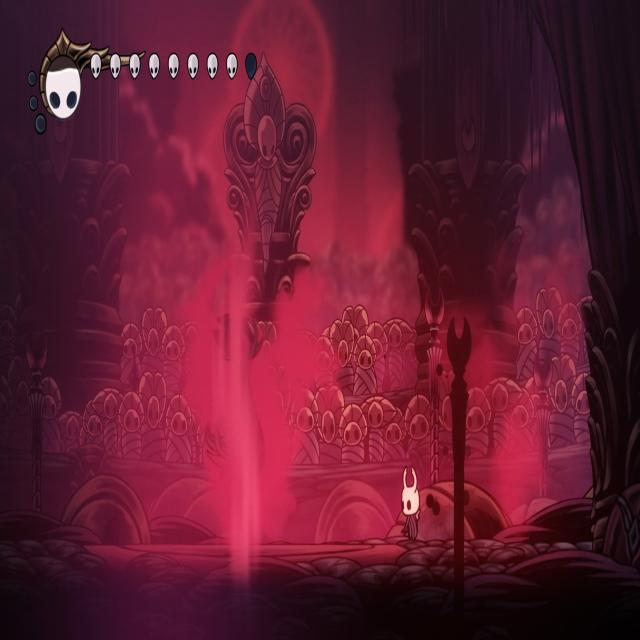Player: (399, 456, 425, 544)
